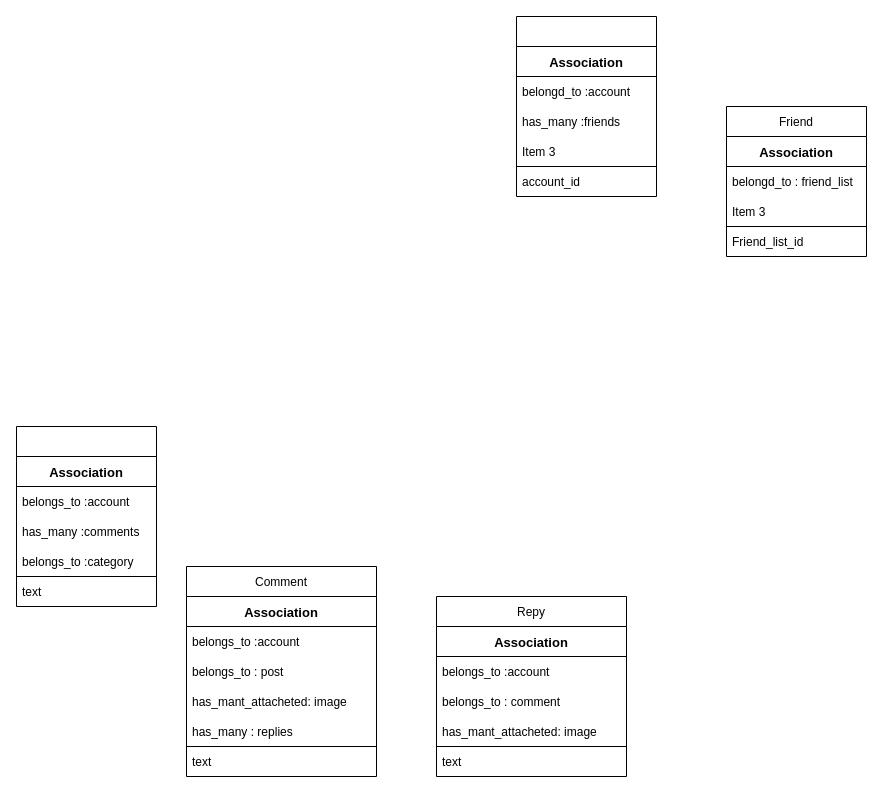
The diagram is 883 pixels wide and 793 high, and some of its shapes have lost their labels. The box of each missing label's shape, as (x1, y1, x2, y2) in pixels:
Friend List: (516, 16, 656, 196)
Post: (16, 426, 156, 606)
